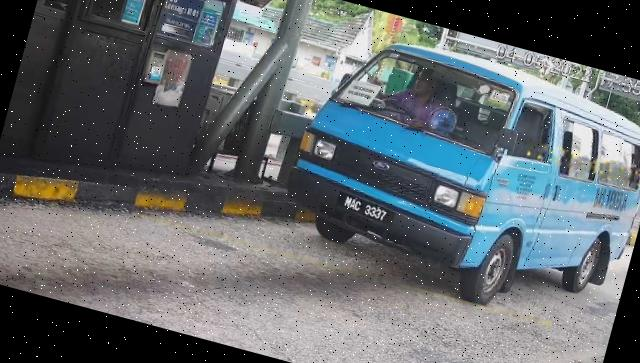License_Plate: (333, 189, 400, 230)
van: (271, 18, 640, 337)
